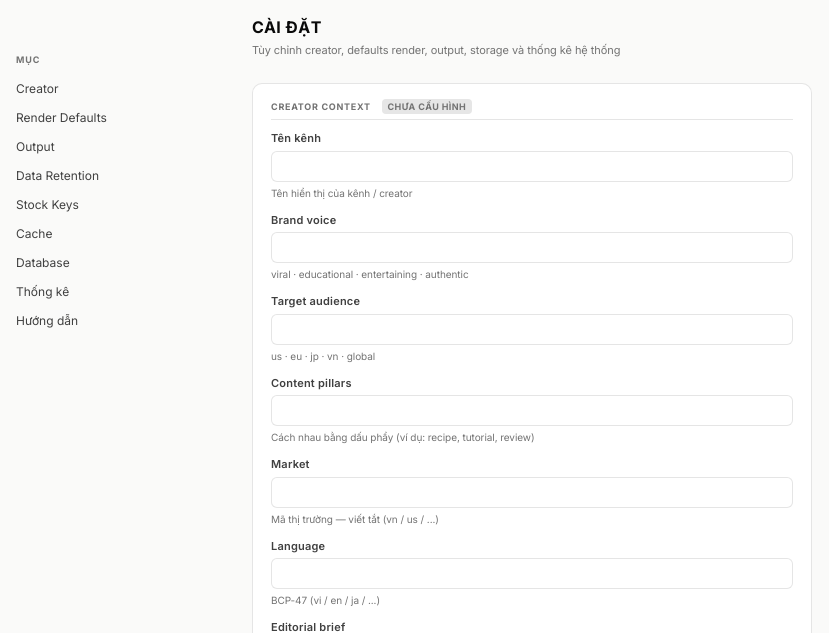
Test: SettingsScreen — Creator Context form CRUD › shows Lưu thất bại when putCreatorContext rejects
In the field with test id "cc-channel-name": x=532, y=166 [271,150,793,182], type "x"
(page scrolled)
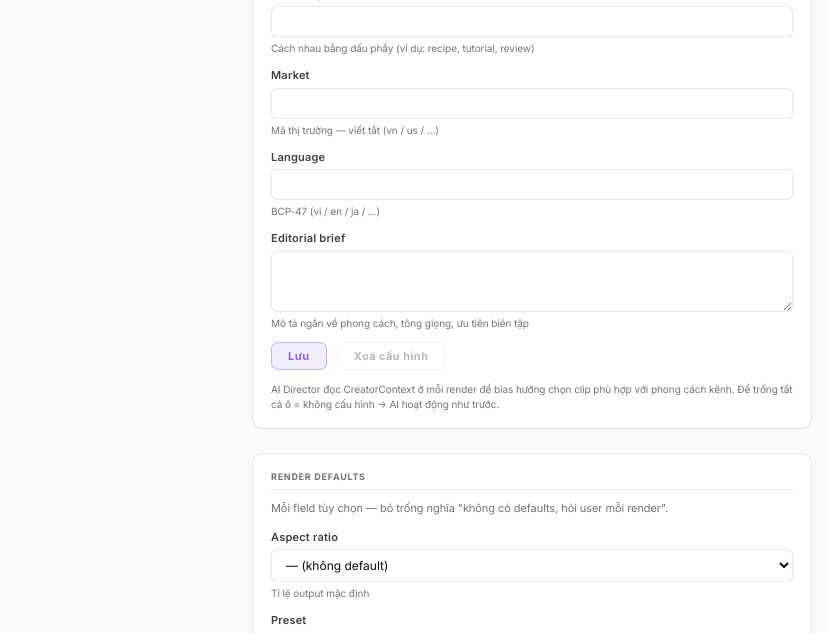
Click the button with test id "cc-save": x=299, y=356 [271,342,327,370]
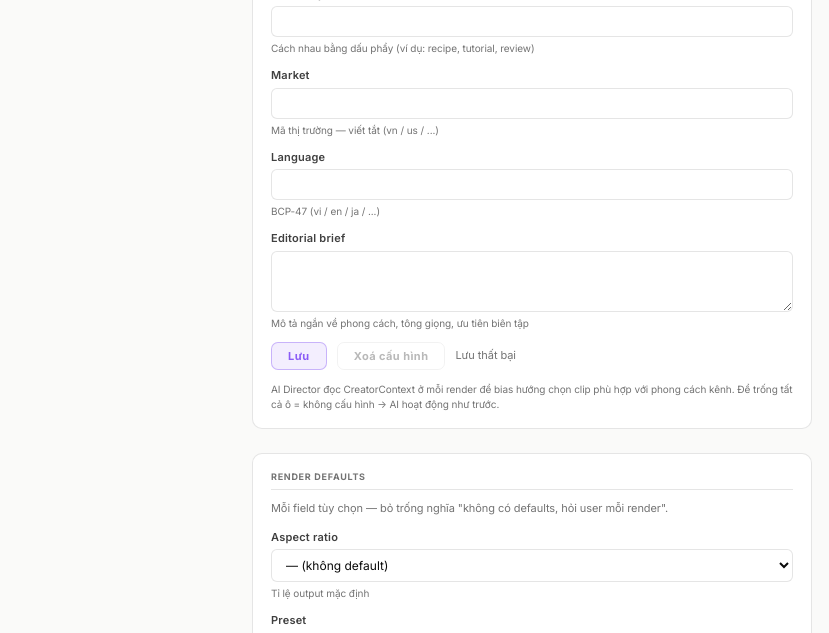
Expected: the text with test id "cc-status" reads "Lưu thất bại", [455,348,516,362]
